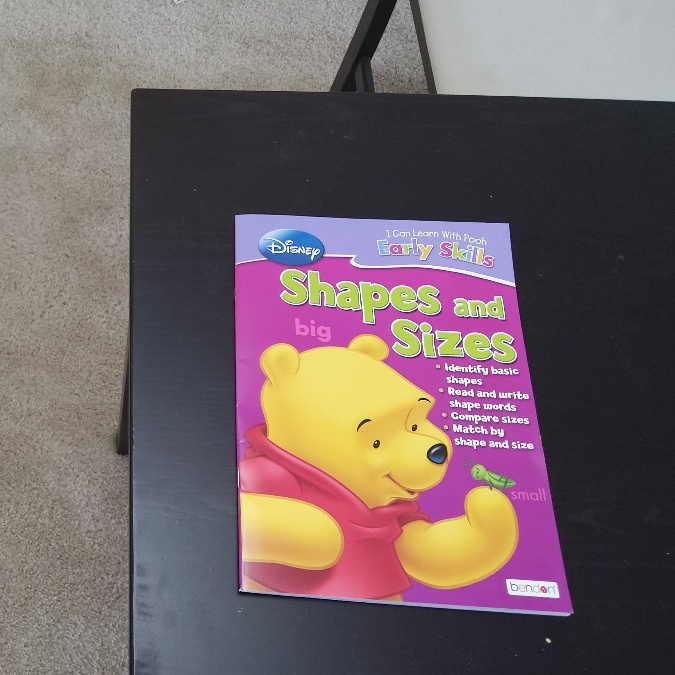book: (228, 209, 578, 621)
